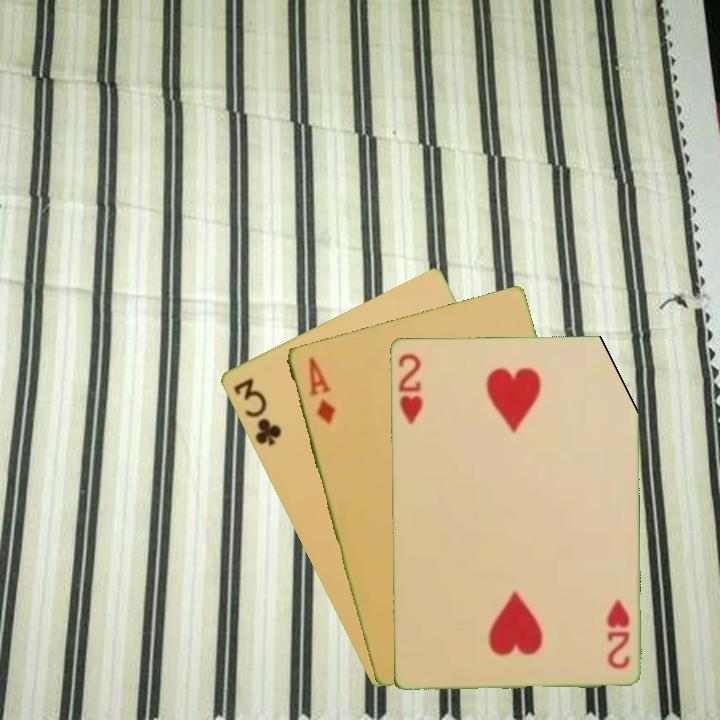2h: (394, 350, 425, 427), (603, 595, 632, 671)
3c: (229, 374, 284, 449)
Ad: (304, 353, 338, 428)
